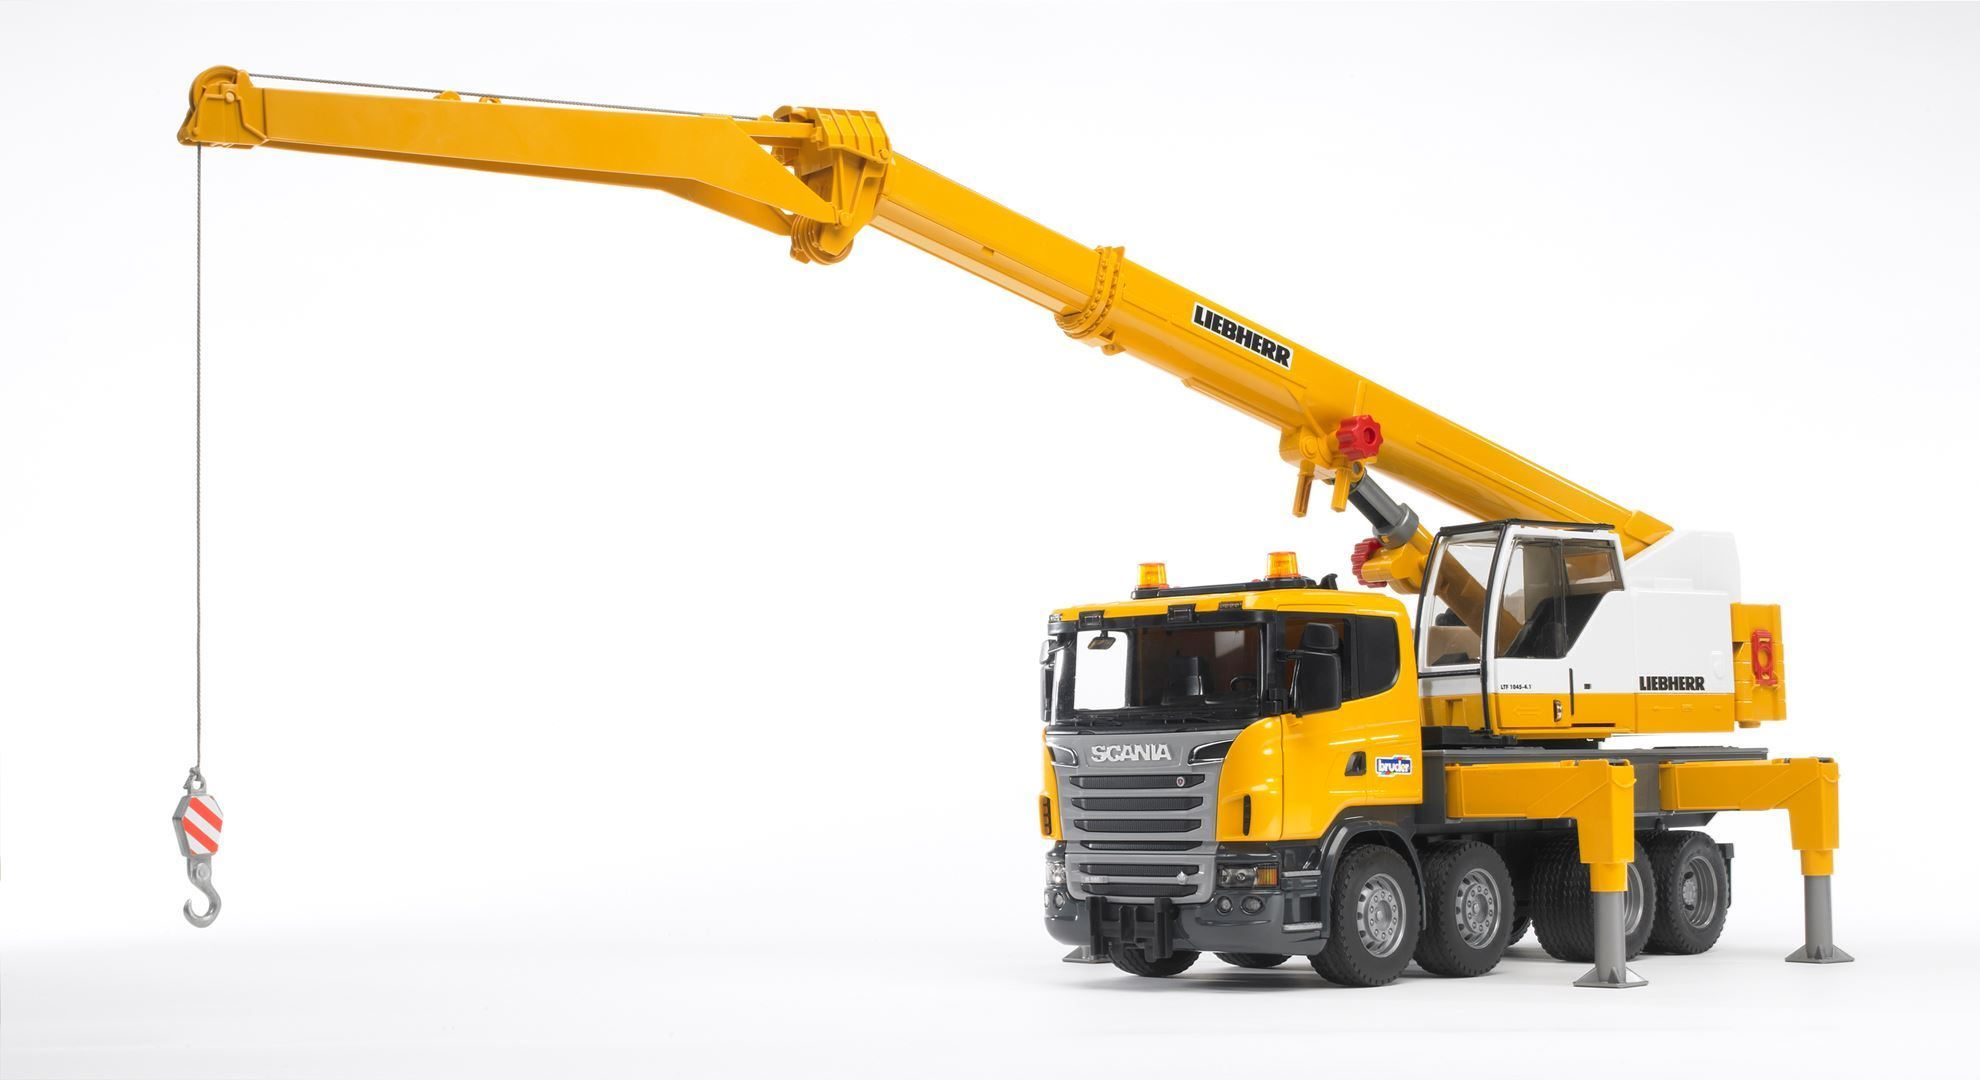truck: (170, 61, 1863, 1008)
